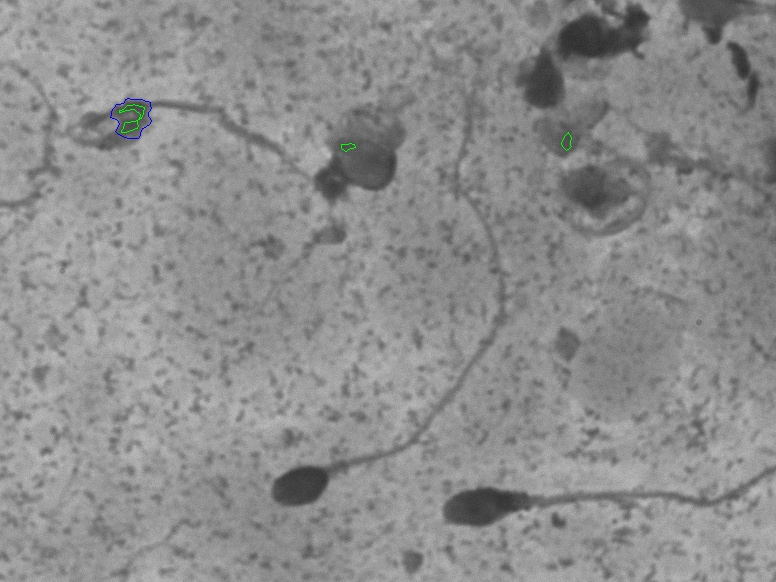Abnormal: (437, 465, 745, 541)
Normal: (258, 76, 523, 515)
